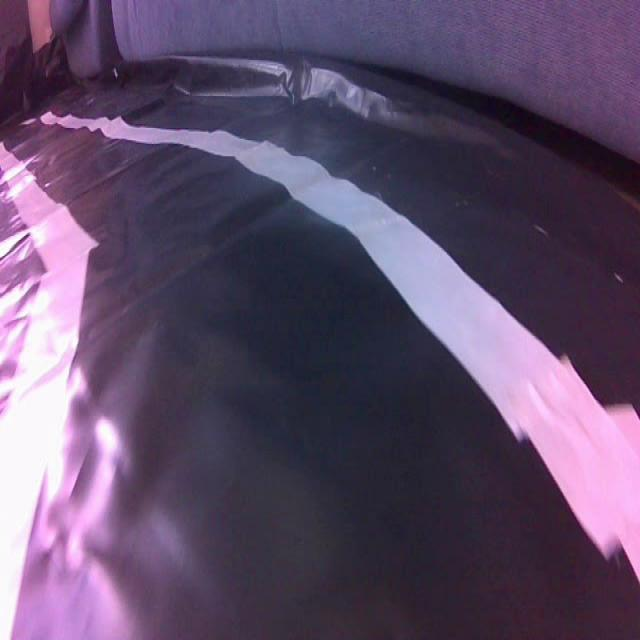LineaCarril: (42, 115, 640, 579), (0, 168, 96, 638), (0, 143, 19, 171)
